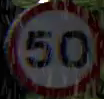Speed limit: (5, 1, 101, 93)
